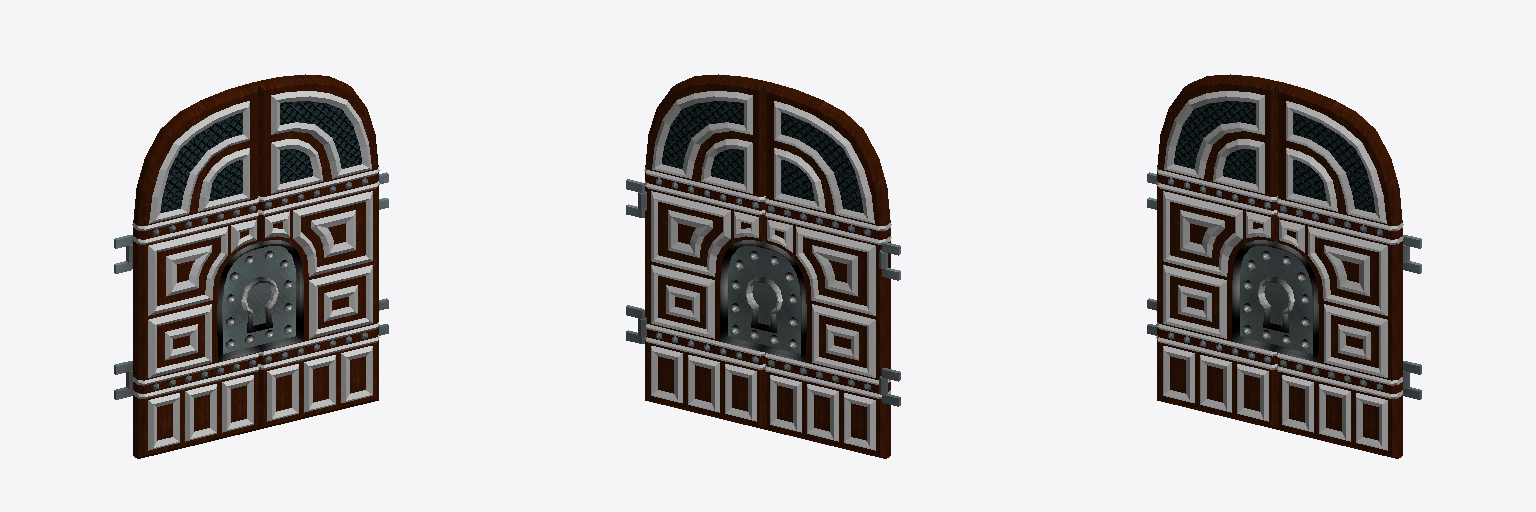
3 views of the same model, side by side, from view 1: azimuth 30°, elevation 25°; view 2: azimuth 150°, elevation 25°; view 3: azimuth 330°, elevation 25° (orthographic).
Parts seen in each view (by area): view 1: wood2LP woodstep2, wood2RP woodstep3, wood2LD, wood2RD, wood2RP, wood2LP, wood2LP woodstep2 lattice1, wood2RP woodstep3 lattice, wood2RD env1 woodstep1 metal, wood2LD env11 woodstep, wood2LD env11 woodstep metal1, wood2RD env1 woodstep1 (+4 smaller); view 2: wood2LP woodstep2, wood2RP woodstep3, wood2LD, wood2RD, wood2RP, wood2LP, wood2LP woodstep2 lattice1, wood2RP woodstep3 lattice, wood2RD env1 woodstep1 metal, wood2LD env11 woodstep, wood2LD env11 woodstep metal1, wood2RD env1 woodstep1 (+5 smaller); view 3: wood2RP woodstep3, wood2LP woodstep2, wood2RD, wood2LD, wood2LP, wood2RP, wood2RP woodstep3 lattice, wood2LP woodstep2 lattice1, wood2LD env11 woodstep metal1, wood2RD env1 woodstep1, wood2RD env1 woodstep1 metal, wood2LD env11 woodstep (+4 smaller).
Part boxes in pixels (x1,y1,x2,y2): wood2LP woodstep2: (148, 101, 256, 450); wood2RP woodstep3: (265, 91, 372, 421); wood2LD: (133, 82, 257, 458); wood2RD: (254, 74, 378, 429); wood2RP: (273, 202, 365, 411); wood2LP: (157, 230, 248, 440); wood2LP woodstep2 lattice1: (160, 112, 242, 212); wood2RP woodstep3 lattice: (280, 101, 361, 183); wood2RD env1 woodstep1 metal: (258, 246, 295, 344); wood2LD env11 woodstep: (132, 197, 258, 398); wood2LD env11 woodstep metal1: (223, 249, 258, 353); wood2RD env1 woodstep1: (258, 167, 379, 369); wood2LP woodstep2: (767, 101, 875, 450); wood2RP woodstep3: (651, 91, 758, 421); wood2LD: (766, 82, 890, 458); wood2RD: (645, 74, 769, 429); wood2RP: (658, 202, 750, 411); wood2LP: (775, 230, 866, 440); wood2LP woodstep2 lattice1: (781, 112, 863, 212); wood2RP woodstep3 lattice: (662, 101, 743, 183); wood2RD env1 woodstep1 metal: (728, 246, 765, 344); wood2LD env11 woodstep: (765, 197, 891, 398); wood2LD env11 woodstep metal1: (765, 249, 800, 353); wood2RD env1 woodstep1: (644, 167, 765, 369); wood2RP woodstep3: (1279, 101, 1387, 450); wood2LP woodstep2: (1163, 91, 1270, 421); wood2RD: (1278, 82, 1402, 458); wood2LD: (1157, 74, 1281, 429); wood2LP: (1170, 202, 1262, 411); wood2RP: (1287, 230, 1378, 440); wood2RP woodstep3 lattice: (1293, 112, 1375, 212); wood2LP woodstep2 lattice1: (1174, 101, 1255, 183); wood2LD env11 woodstep metal1: (1240, 246, 1277, 344); wood2RD env1 woodstep1: (1277, 197, 1403, 398); wood2RD env1 woodstep1 metal: (1277, 249, 1312, 353); wood2LD env11 woodstep: (1156, 167, 1277, 369).
Size of the model in its own units: 340 by 410 by 30.03.
5 materials, 4 textured.